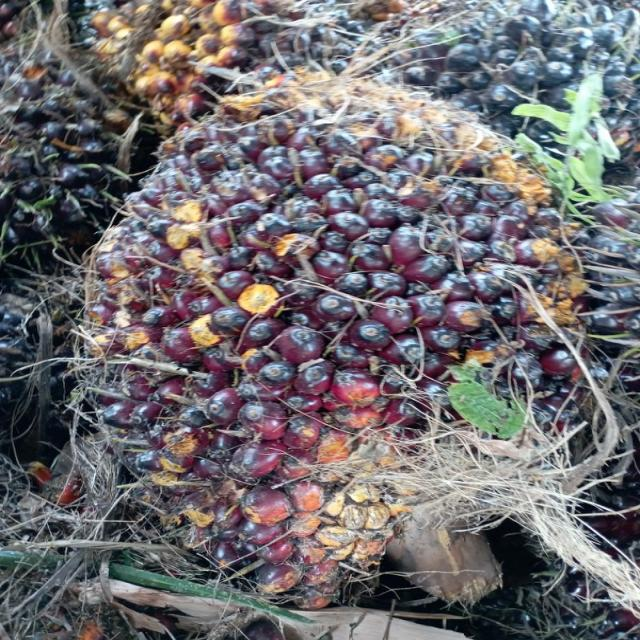fraksi 00: (370, 0, 640, 153)
fraksi 1: (69, 70, 585, 572)
